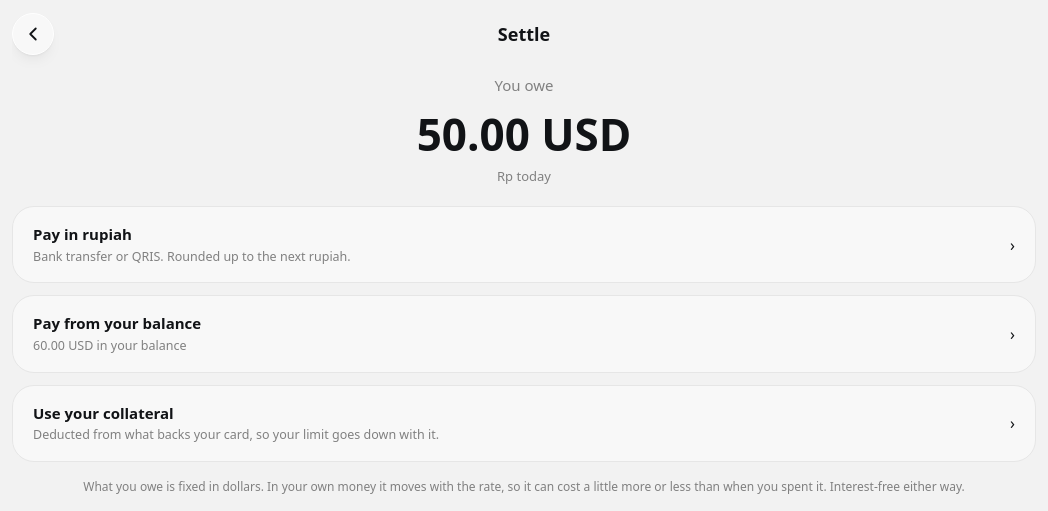
Test: with enough balance, it repays onchain and confirms
Click the button "Pay from your balance 60.00 USD in your balance ›" at (117, 323), box x1=12 y1=295 x2=1036 y2=373
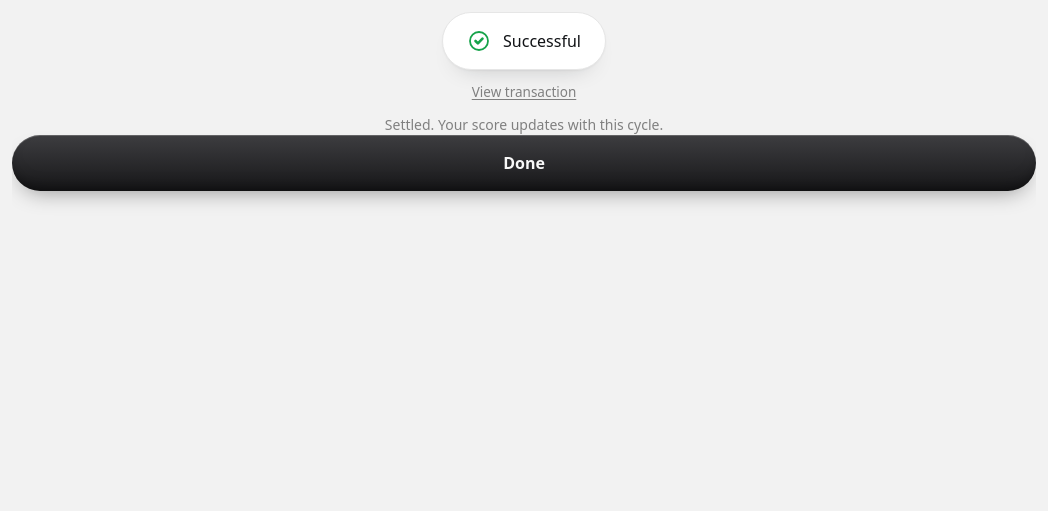
Now the text "Settled. Your score updates with this cycle." is shown, box x1=385 y1=114 x2=663 y2=135
